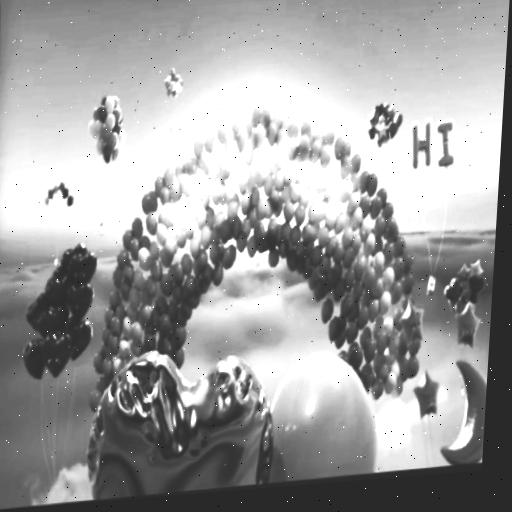balloon: (78, 342, 275, 502), (259, 349, 381, 485), (433, 364, 488, 468), (449, 258, 487, 310), (34, 330, 72, 380), (367, 101, 400, 150), (407, 120, 434, 172), (17, 335, 46, 383), (35, 303, 69, 343), (398, 301, 425, 345), (62, 280, 90, 322), (434, 121, 459, 167), (412, 373, 438, 416), (63, 317, 90, 357), (23, 294, 50, 334), (43, 270, 70, 305), (69, 250, 96, 284), (453, 307, 476, 344), (189, 270, 208, 297), (59, 247, 87, 265), (180, 197, 199, 223), (165, 69, 182, 97), (377, 373, 395, 398), (335, 181, 352, 205), (198, 153, 212, 182), (359, 339, 373, 367), (229, 151, 243, 178), (356, 169, 370, 196), (330, 138, 345, 163), (218, 155, 233, 180), (129, 217, 144, 242), (130, 268, 145, 293), (178, 252, 193, 277), (154, 314, 169, 339), (346, 347, 361, 372), (249, 222, 266, 244), (207, 245, 223, 268), (168, 326, 184, 349), (145, 188, 159, 214), (157, 272, 171, 298), (336, 157, 351, 181), (177, 174, 192, 198), (312, 173, 327, 197), (328, 185, 343, 209), (104, 317, 122, 337), (384, 359, 399, 383), (134, 249, 150, 271), (161, 167, 175, 192), (142, 211, 156, 236), (363, 173, 377, 198), (264, 220, 278, 245), (380, 267, 394, 292), (356, 366, 370, 391), (385, 331, 399, 356), (320, 126, 335, 149), (343, 194, 358, 217), (208, 159, 220, 187), (155, 208, 169, 232), (265, 154, 279, 178), (271, 149, 285, 173), (165, 262, 179, 286), (182, 275, 196, 299), (322, 236, 338, 257), (302, 169, 317, 191), (347, 210, 362, 232), (194, 244, 205, 274), (190, 135, 203, 160), (168, 181, 181, 206), (188, 176, 201, 201), (299, 256, 312, 281), (235, 128, 247, 155), (330, 277, 342, 304), (348, 279, 360, 306), (355, 221, 372, 240), (221, 131, 235, 154), (196, 188, 210, 211), (293, 163, 307, 186), (359, 268, 375, 288), (153, 334, 168, 355), (258, 105, 271, 129), (127, 239, 139, 265), (320, 180, 332, 206), (253, 197, 266, 221), (360, 234, 373, 258), (173, 303, 186, 327), (214, 121, 228, 143), (216, 181, 227, 209), (153, 294, 167, 316), (347, 236, 361, 258), (309, 281, 323, 303), (372, 333, 386, 355), (115, 250, 130, 270), (236, 171, 248, 196), (381, 219, 396, 239), (187, 236, 199, 261), (136, 302, 151, 322), (116, 336, 128, 361), (306, 204, 318, 229), (315, 201, 327, 226), (320, 212, 335, 232), (233, 232, 245, 257), (181, 217, 194, 240), (209, 181, 220, 208), (395, 355, 406, 382), (371, 218, 385, 239), (318, 146, 330, 170), (162, 206, 174, 230), (281, 163, 293, 187), (238, 192, 250, 216), (306, 268, 318, 292), (342, 268, 354, 292), (202, 132, 215, 154), (347, 154, 360, 176), (296, 138, 309, 160), (284, 139, 297, 161), (264, 125, 277, 147), (243, 143, 254, 169), (152, 224, 165, 246), (272, 169, 283, 195), (109, 266, 122, 288), (122, 262, 133, 288), (158, 247, 171, 269), (149, 308, 162, 330), (390, 310, 403, 332), (318, 301, 331, 323), (325, 319, 338, 341), (331, 328, 344, 350), (393, 332, 406, 354), (267, 112, 282, 131), (172, 202, 187, 221), (274, 132, 288, 152), (384, 224, 398, 244), (116, 282, 130, 302), (138, 290, 152, 310), (122, 302, 136, 322), (298, 225, 312, 245), (241, 118, 253, 141), (230, 118, 242, 141), (252, 127, 264, 150), (261, 173, 273, 196), (245, 235, 257, 258), (200, 263, 212, 286), (172, 349, 184, 372), (380, 316, 392, 339), (182, 159, 198, 176), (250, 103, 260, 130), (251, 153, 266, 171), (314, 228, 329, 246), (343, 325, 358, 343), (369, 318, 383, 337), (153, 175, 165, 197), (253, 166, 265, 188), (358, 197, 370, 219), (198, 228, 210, 250), (174, 230, 186, 252), (143, 276, 155, 298), (278, 218, 290, 240), (339, 229, 351, 251), (377, 295, 389, 317), (178, 299, 190, 321), (365, 300, 377, 322), (357, 329, 369, 351), (102, 95, 114, 117), (391, 237, 404, 257), (85, 391, 98, 411), (202, 209, 215, 229), (368, 280, 381, 300), (355, 307, 368, 327), (344, 306, 357, 326), (218, 222, 229, 245), (308, 143, 320, 164), (138, 193, 152, 211), (147, 243, 159, 264), (223, 204, 237, 222), (378, 203, 392, 221), (372, 218, 384, 239), (281, 202, 293, 223), (371, 256, 383, 277), (340, 249, 352, 270), (351, 258, 363, 279), (338, 297, 352, 315), (404, 358, 418, 376), (165, 297, 175, 322), (285, 120, 298, 139), (172, 161, 185, 180), (168, 284, 181, 303), (244, 171, 255, 193), (127, 288, 138, 310), (90, 351, 101, 373), (293, 207, 304, 229), (278, 118, 290, 138), (212, 146, 222, 170), (369, 199, 381, 219), (106, 334, 118, 354), (228, 218, 240, 238), (208, 226, 220, 246), (289, 182, 299, 206), (266, 249, 278, 269), (330, 215, 345, 231), (380, 244, 392, 264), (224, 247, 236, 267), (86, 119, 96, 143), (137, 235, 151, 252), (120, 229, 133, 247), (92, 376, 105, 394), (270, 201, 283, 219), (297, 190, 310, 208), (399, 273, 412, 291), (100, 358, 110, 381), (366, 300, 376, 323), (370, 379, 380, 402), (375, 189, 387, 208), (288, 228, 300, 247), (283, 252, 295, 271), (126, 340, 141, 355), (107, 290, 121, 306), (192, 211, 206, 227), (157, 190, 170, 207), (357, 290, 370, 307), (334, 349, 347, 366), (406, 341, 419, 358), (328, 169, 338, 191), (166, 234, 177, 254), (129, 321, 140, 341), (392, 260, 402, 282), (187, 289, 197, 311), (309, 247, 320, 267), (111, 106, 122, 126), (300, 119, 312, 137), (339, 143, 351, 161), (101, 306, 113, 324), (109, 359, 121, 377), (105, 133, 117, 151), (246, 131, 256, 152), (224, 186, 235, 205), (239, 218, 250, 237), (149, 262, 160, 281), (370, 353, 381, 372), (97, 344, 110, 360), (212, 212, 225, 228), (141, 335, 154, 351), (267, 195, 280, 211), (317, 258, 330, 274), (109, 147, 122, 163), (119, 317, 131, 334), (277, 241, 289, 258), (401, 294, 413, 311), (389, 383, 401, 400), (333, 313, 345, 330), (93, 136, 103, 156), (95, 106, 106, 124), (230, 194, 241, 212), (163, 241, 174, 259), (99, 125, 110, 143), (380, 353, 394, 367), (142, 323, 155, 338), (328, 265, 341, 280), (173, 264, 183, 283), (246, 207, 256, 226), (100, 144, 110, 163), (279, 186, 290, 203), (248, 190, 260, 205), (347, 177, 359, 192), (99, 327, 109, 345), (372, 240, 382, 258), (400, 254, 410, 272), (220, 249, 230, 267), (210, 268, 221, 284), (312, 130, 322, 147), (292, 261, 302, 278), (331, 245, 341, 262), (254, 240, 264, 256), (293, 246, 304, 260), (94, 120, 102, 139), (302, 240, 312, 255), (324, 272, 334, 287), (90, 106, 100, 121), (106, 115, 114, 133), (375, 367, 386, 380), (113, 305, 123, 319), (392, 284, 399, 304), (111, 124, 121, 136), (112, 94, 119, 108), (44, 188, 53, 198), (117, 132, 125, 143), (308, 129, 314, 143), (51, 184, 58, 195), (58, 181, 65, 191), (167, 348, 172, 361), (41, 196, 48, 204), (67, 198, 74, 206), (62, 190, 69, 197)
